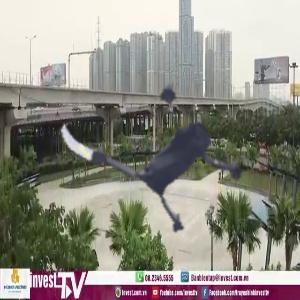drone: (58, 32, 277, 251)
